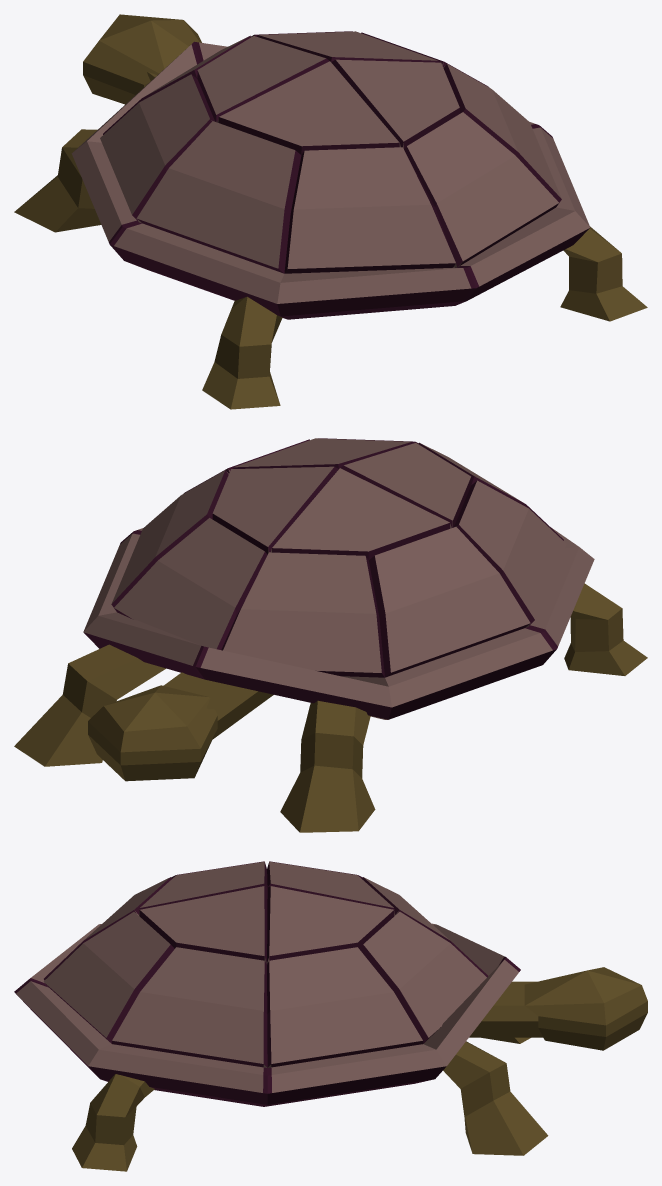
File: turtleEYES3.fbx
3 views of the same model, one above another, from view 1: azimuth 30°, elevation 25°; view 2: azimuth 150°, elevation 25°; view 3: azimuth 270°, elevation 25° (orthographic). The views are drawn at different scales.
Parts seen in each view (by area): view 1: Circle.002, Circle.001, Cylinder.003, Cylinder.001, Cylinder.002; view 2: Circle.002, Circle.001, Cylinder.002, Cylinder, Cylinder.003, Plane; view 3: Circle.002, Circle.001, Cylinder, Cylinder.001, Plane.
Part boxes in pixels (x1,y1,x2,y2): Circle.002: (71, 31, 590, 319); Circle.001: (83, 14, 201, 104); Cylinder.003: (202, 296, 282, 409); Cylinder.001: (560, 226, 647, 321); Cylinder.002: (14, 129, 101, 232); Circle.002: (83, 438, 594, 719); Circle.001: (88, 685, 217, 781); Cylinder.002: (280, 700, 375, 832); Cylinder: (14, 644, 165, 766); Cylinder.003: (564, 583, 647, 675); Plane: (163, 672, 273, 739); Circle.002: (14, 861, 520, 1106); Circle.001: (524, 967, 647, 1050); Cylinder: (443, 1041, 548, 1155); Cylinder.001: (72, 1074, 154, 1171); Plane: (469, 981, 542, 1037).
Size of the model in its own units: 205 by 99.65 by 292.
